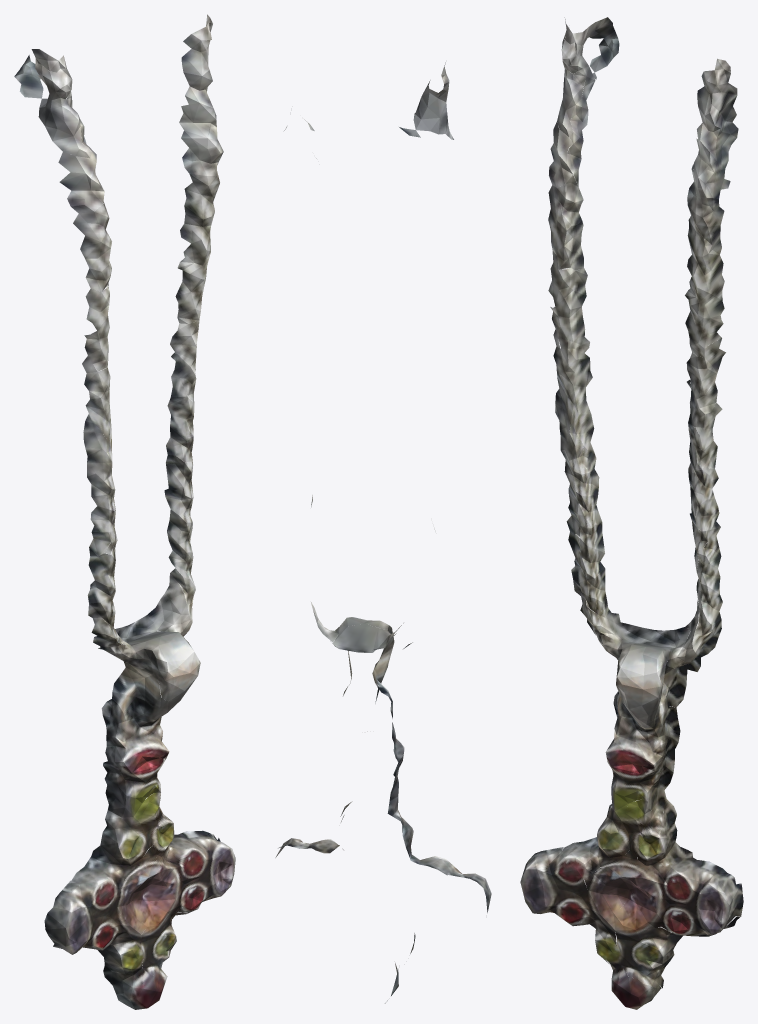
Rendered from colar.glb.
The picture shows the model from 3 angles, left to right: view 1: azimuth 30°, elevation 25°; view 2: azimuth 150°, elevation 25°; view 3: azimuth 330°, elevation 25°; orthographic projection.
Visible parts, largest first — view 1: Mesh_0; view 2: Mesh_0; view 3: Mesh_0.
Boxes of the visible parts, x1,y1,x2,y2 form: Mesh_0: (14,14,235,1009); Mesh_0: (275,62,491,1003); Mesh_0: (520,17,743,1009).
Bounding box in the file's own units: 0.315 × 1.46 × 0.1903.
1 material, 1 textured.
